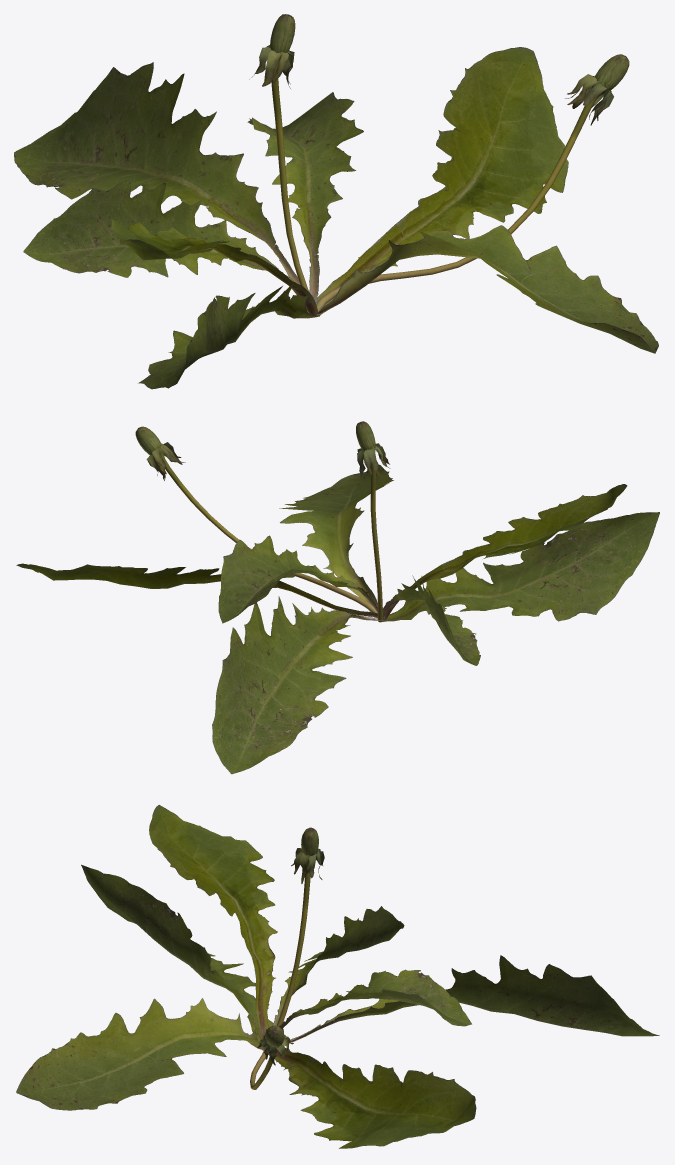
The model's file is dandelion_01_02.glb.
3 renders of one model, top to bottom at view 1: azimuth 30°, elevation 25°; view 2: azimuth 150°, elevation 25°; view 3: azimuth 270°, elevation 25°, orthographic. The views are drawn at different scales.
Parts seen in each view (by area): view 1: dandelion_01; view 2: dandelion_01; view 3: dandelion_01.
Boxes of the visible parts, bbox=[...] form: dandelion_01: bbox=[14, 14, 658, 389]; dandelion_01: bbox=[16, 421, 659, 774]; dandelion_01: bbox=[16, 805, 659, 1148].
Bounding box in the file's own units: 0.1221 × 0.0554 × 0.1435.
Materials: 1 (1 with a texture image).
